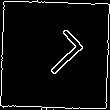L_SW: (25, 26, 85, 84)
